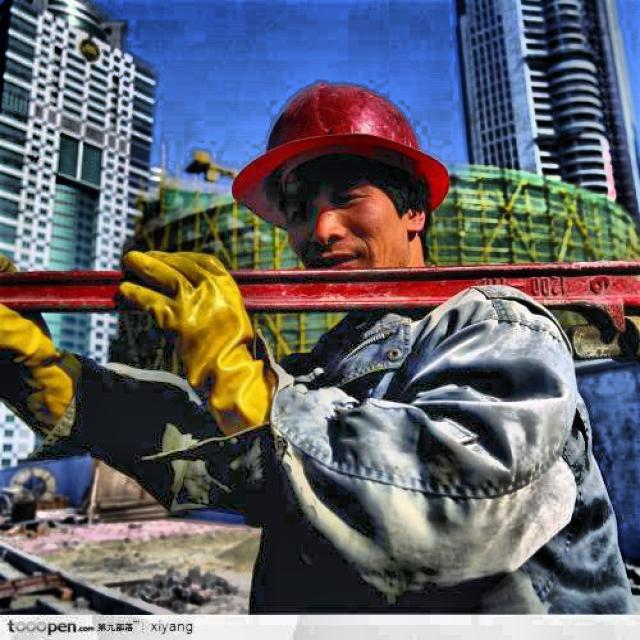helmet: (211, 56, 456, 294)
